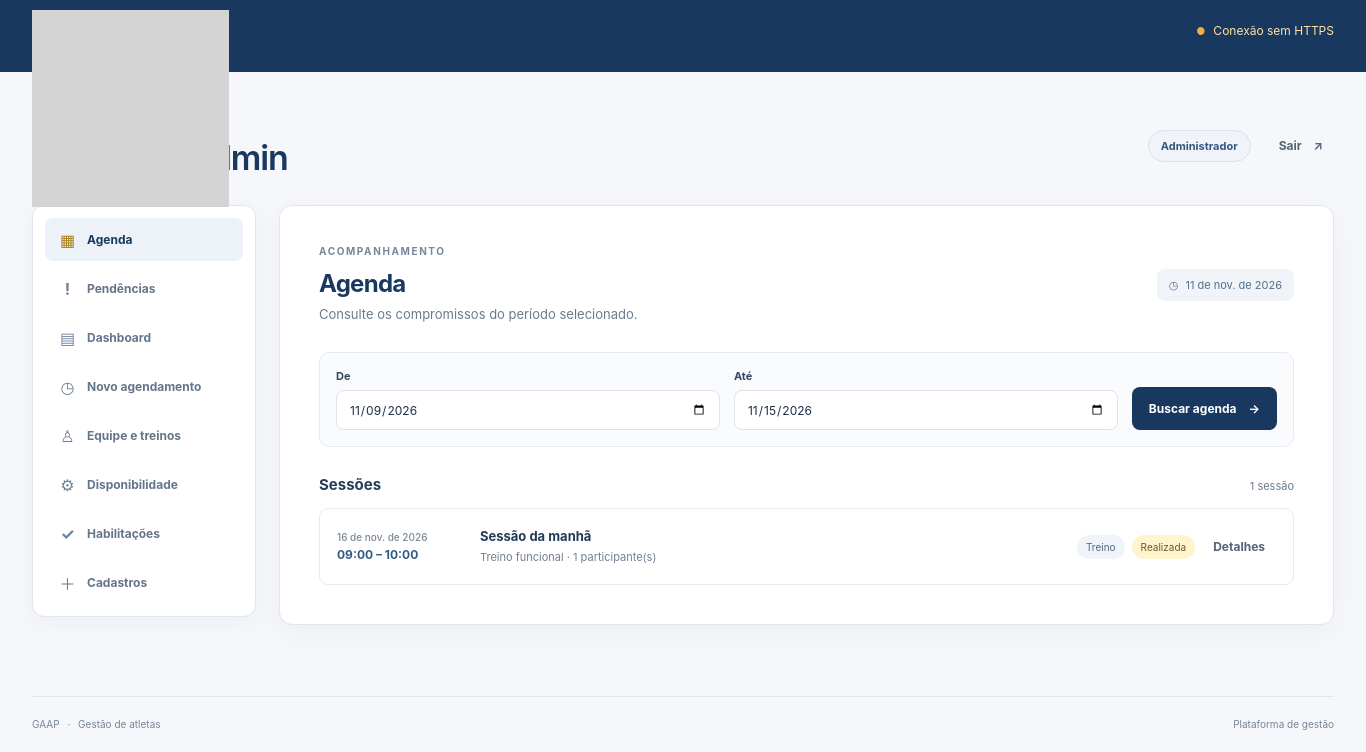
Scenario: Revisão da interface › Administrador abre os detalhes na agenda, vê o relatório e cancela a sessão
The width and height of the screenshot is (1366, 752).
expect the text "Treino funcional · 1 participante(s)" is shown: met, box [480,550,656,564]
Step 1. Click the button "Detalhes" → [1239, 547], box [1202,525,1276,568]
(page scrolled)
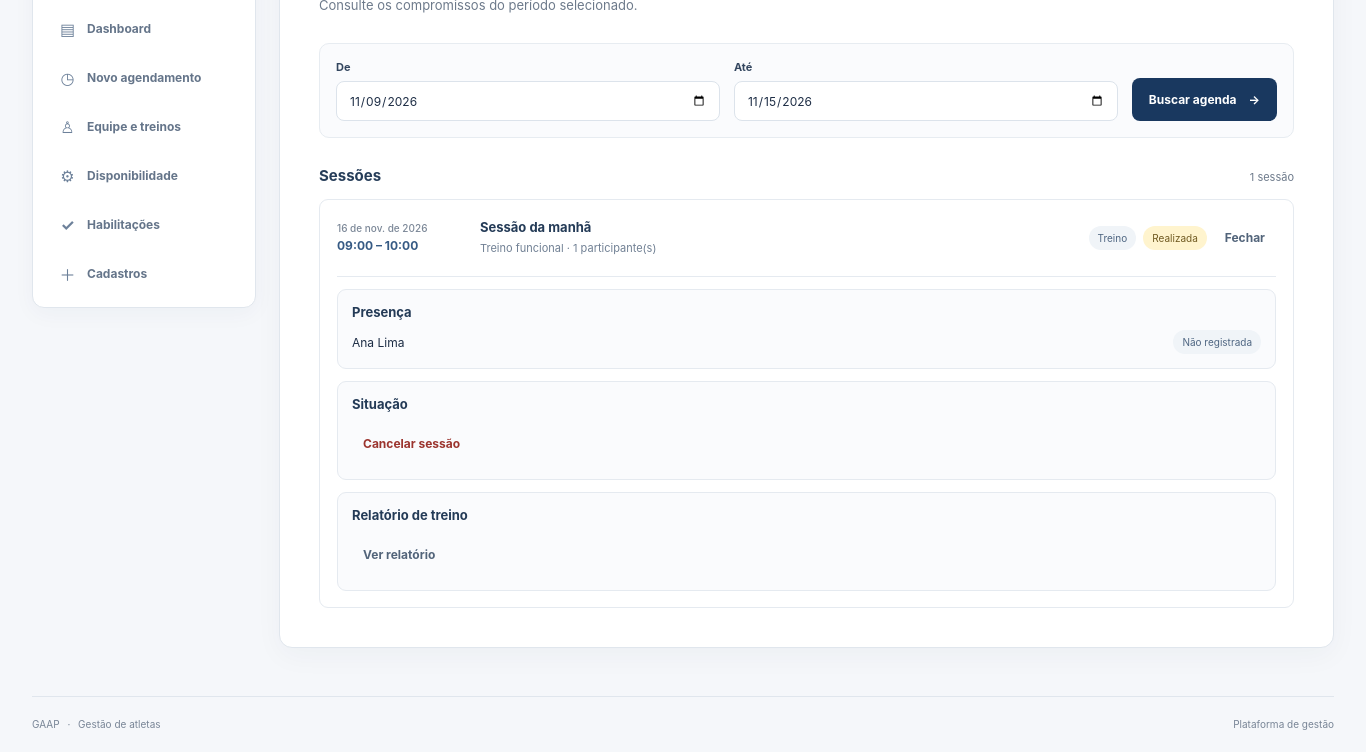
Step 2. Click the button "Ver relatório" → [399, 555], box [352,533,446,576]
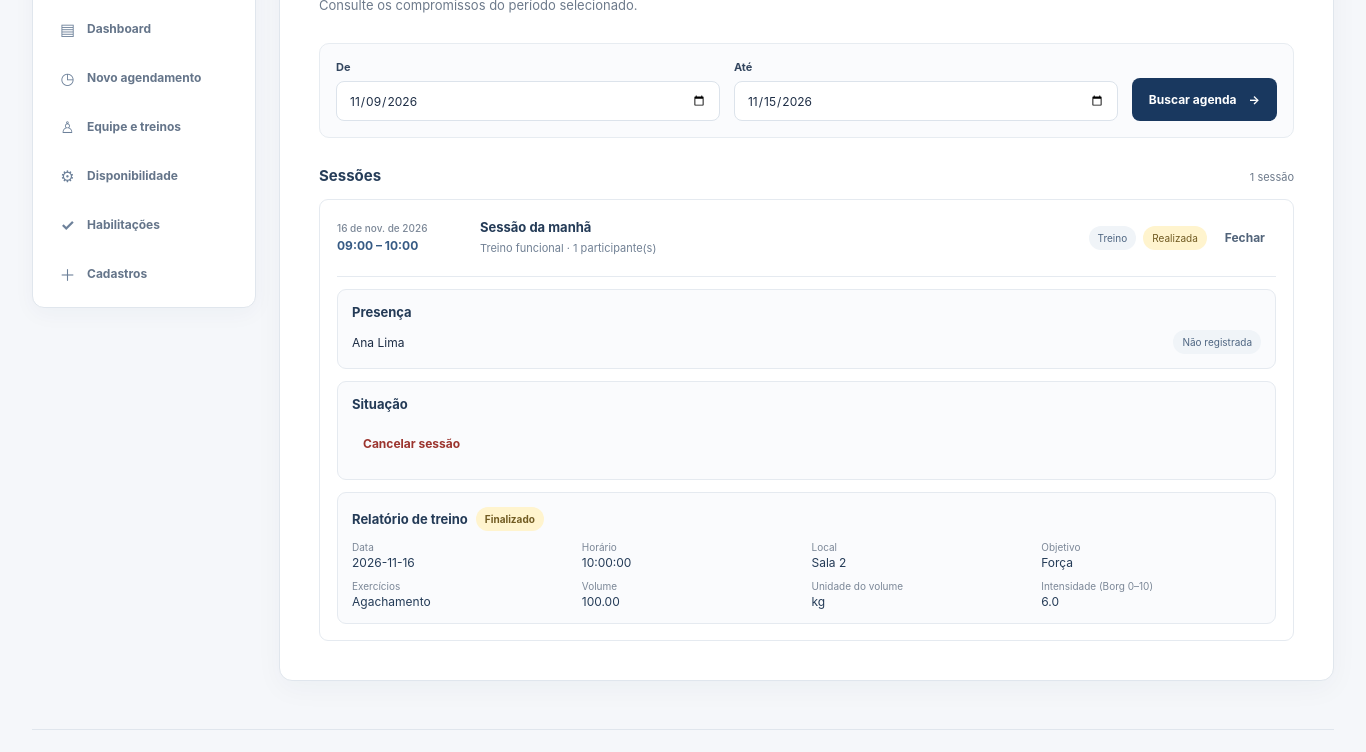
expect the text "Agachamento" is shown: met, box [352,594,431,609]
Step 3. Click the button "Cancelar sessão" → [412, 444], box [352,422,471,465]
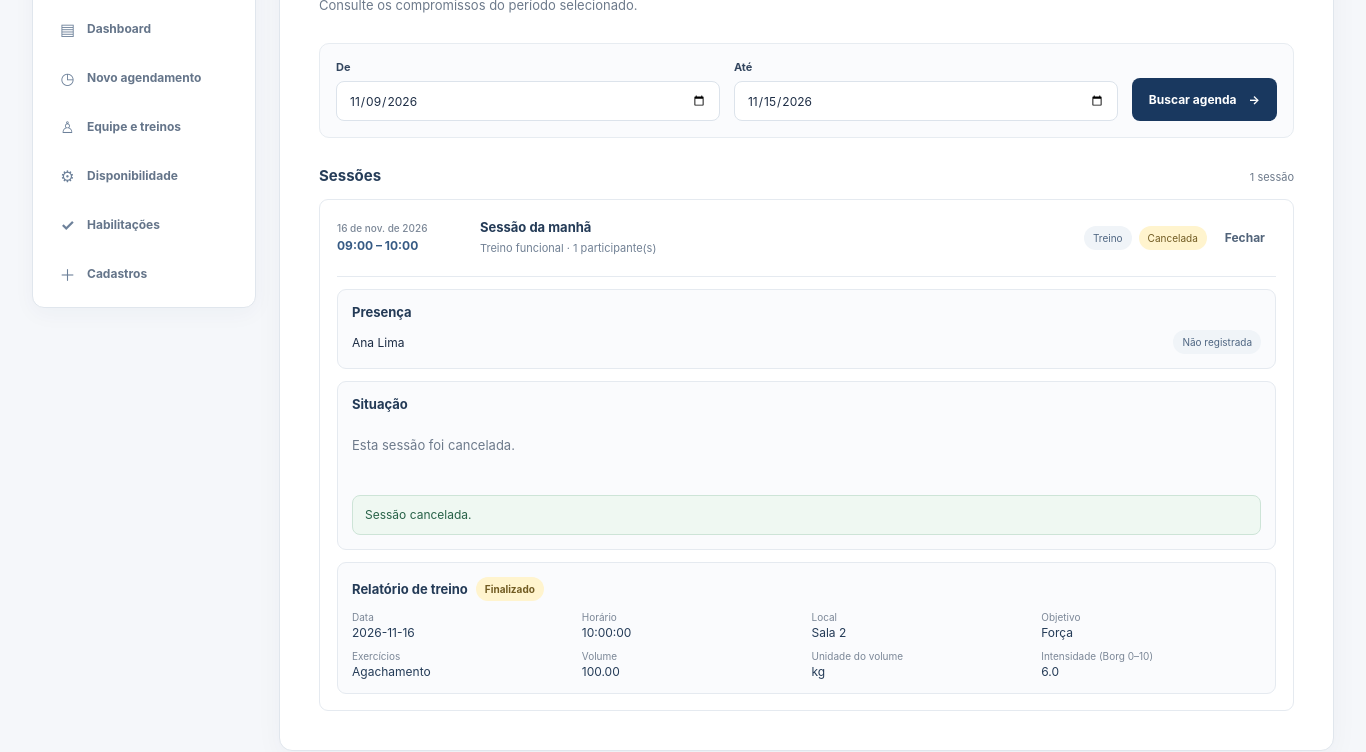
expect the text "Esta sessão foi cancelada." is shown: met, box [352,437,515,453]
